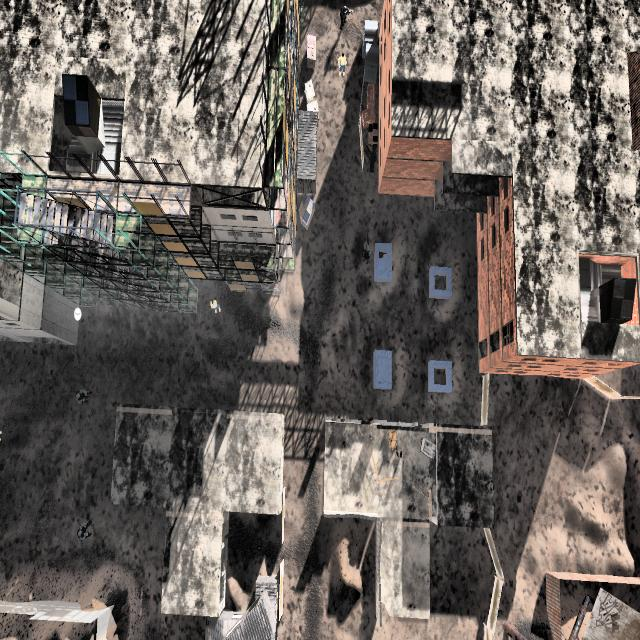bad: (75, 507, 94, 549), (70, 379, 94, 412), (360, 229, 375, 271), (336, 1, 352, 31), (335, 47, 349, 80)
